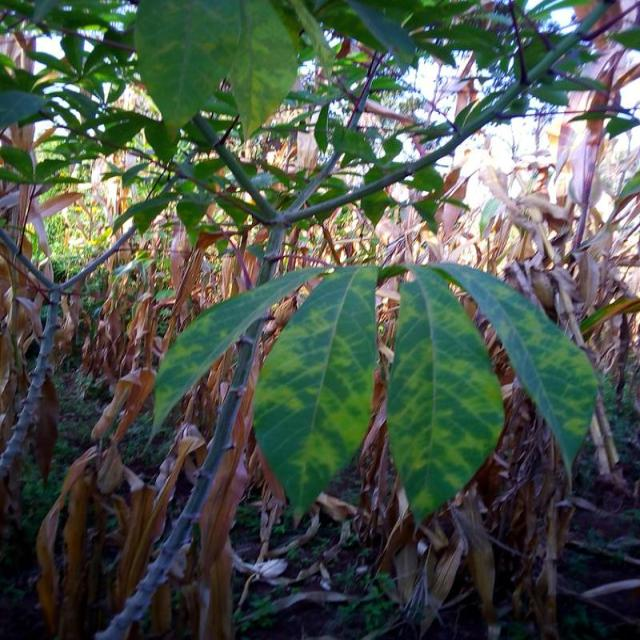cassava leaf: (415, 259, 600, 491), (252, 263, 380, 527), (386, 263, 506, 528), (150, 264, 327, 442)
